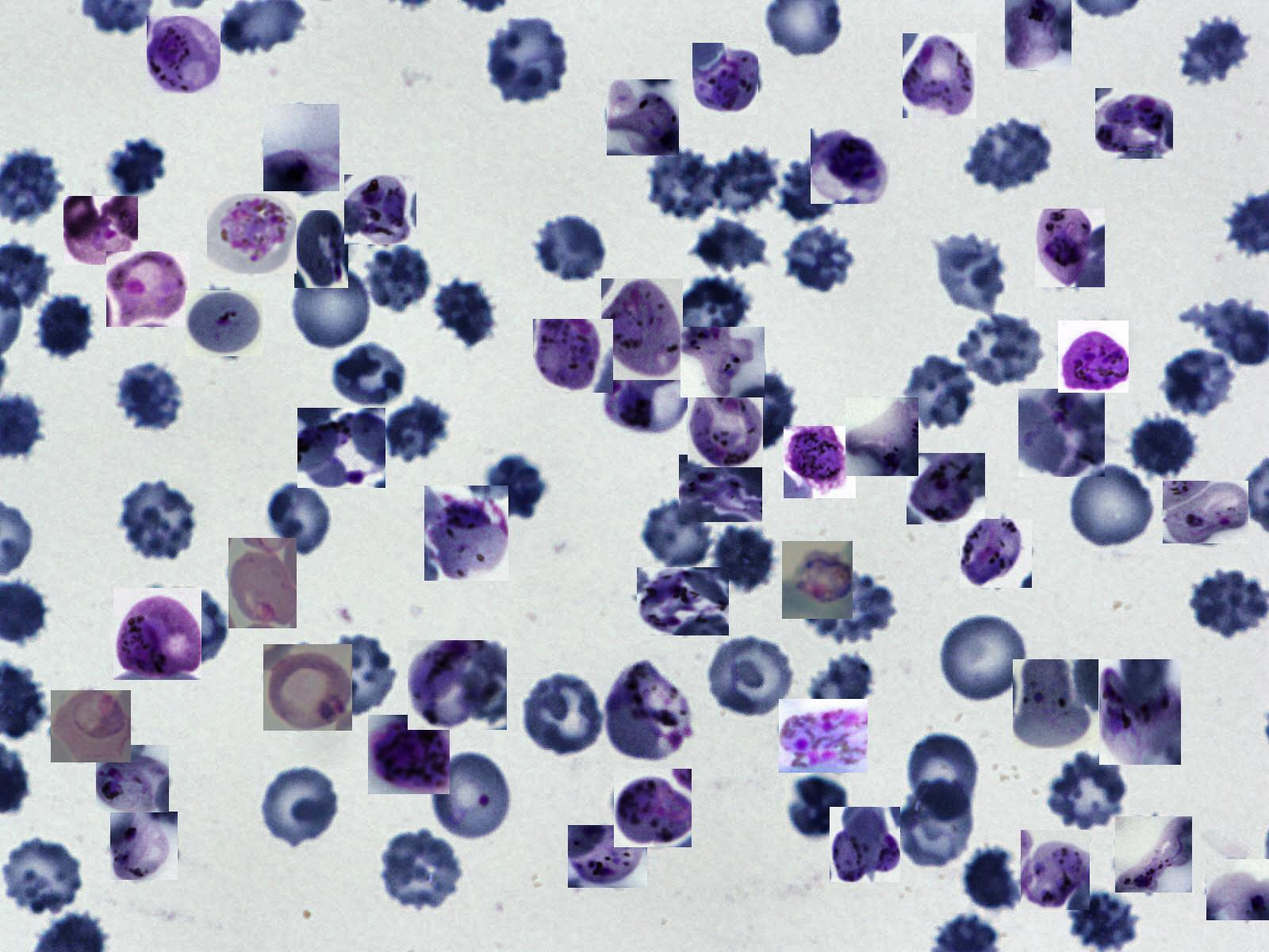Infected: (604, 656, 692, 765), (604, 344, 707, 436), (408, 640, 507, 730), (1099, 659, 1181, 765), (601, 278, 683, 380), (113, 588, 201, 680), (424, 486, 508, 581), (263, 644, 352, 731), (1018, 389, 1105, 477), (1013, 660, 1098, 750), (207, 194, 297, 274), (297, 408, 385, 488), (263, 104, 339, 191), (779, 699, 868, 773), (368, 715, 450, 794), (106, 251, 190, 327), (637, 567, 729, 635), (228, 538, 297, 628), (903, 33, 976, 118), (688, 386, 764, 467), (614, 769, 692, 847), (811, 129, 890, 204), (533, 319, 613, 393), (681, 327, 765, 397), (1115, 816, 1192, 892), (845, 397, 918, 476), (51, 690, 131, 762), (147, 16, 220, 94), (679, 455, 762, 522), (907, 453, 985, 524), (782, 541, 853, 619), (1021, 830, 1090, 910), (607, 79, 679, 155), (1095, 89, 1173, 159), (1035, 209, 1105, 287), (1163, 481, 1248, 543), (830, 807, 900, 882), (784, 426, 856, 498), (63, 196, 138, 265), (1058, 321, 1129, 393), (186, 290, 263, 356), (568, 825, 647, 888), (344, 175, 416, 244), (960, 519, 1032, 588), (96, 745, 169, 812), (692, 43, 758, 115), (1005, 0, 1072, 70), (110, 812, 178, 880), (295, 210, 349, 288), (1206, 859, 1269, 920)
Uninfected: (937, 612, 1032, 706), (286, 259, 376, 350), (706, 630, 798, 719), (1066, 463, 1159, 551), (430, 750, 516, 844), (482, 17, 573, 102), (374, 831, 463, 914), (258, 762, 343, 848), (895, 787, 975, 876), (1046, 754, 1138, 830), (519, 675, 606, 755), (907, 730, 984, 820), (956, 314, 1046, 391), (803, 570, 895, 645), (116, 482, 201, 559), (964, 116, 1053, 189), (1, 837, 82, 917), (934, 228, 1012, 311), (149, 589, 227, 669), (320, 636, 396, 717), (639, 490, 710, 574), (531, 210, 608, 286), (902, 355, 980, 430), (1158, 347, 1236, 418), (110, 361, 185, 433), (685, 213, 769, 277), (1191, 570, 1269, 638), (363, 243, 436, 314), (265, 484, 335, 557), (706, 523, 776, 596), (731, 372, 799, 447), (710, 146, 782, 216), (481, 452, 550, 525), (643, 148, 717, 216), (331, 341, 405, 408), (381, 396, 450, 466), (675, 276, 747, 343), (433, 278, 498, 352), (1182, 17, 1251, 86), (805, 654, 873, 720), (785, 225, 854, 290), (1069, 890, 1140, 952), (784, 778, 856, 837), (1130, 414, 1194, 479), (34, 291, 94, 358), (966, 848, 1027, 913), (778, 160, 838, 221), (108, 136, 165, 198)
